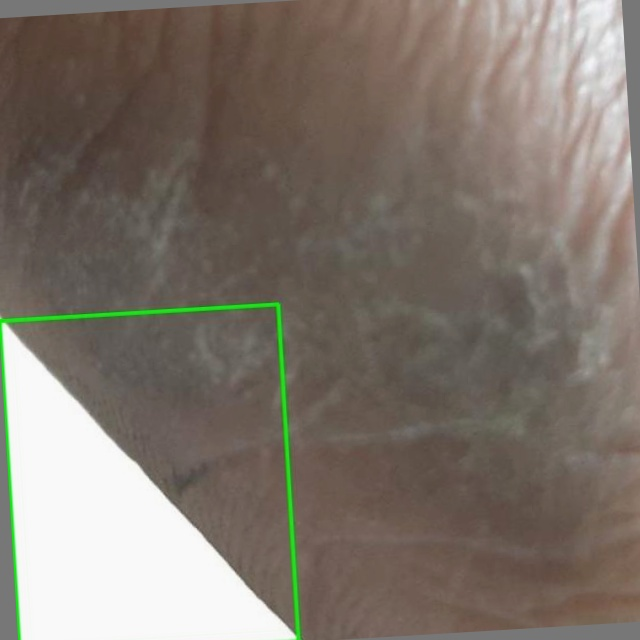Eczema: (0, 304, 298, 639)
